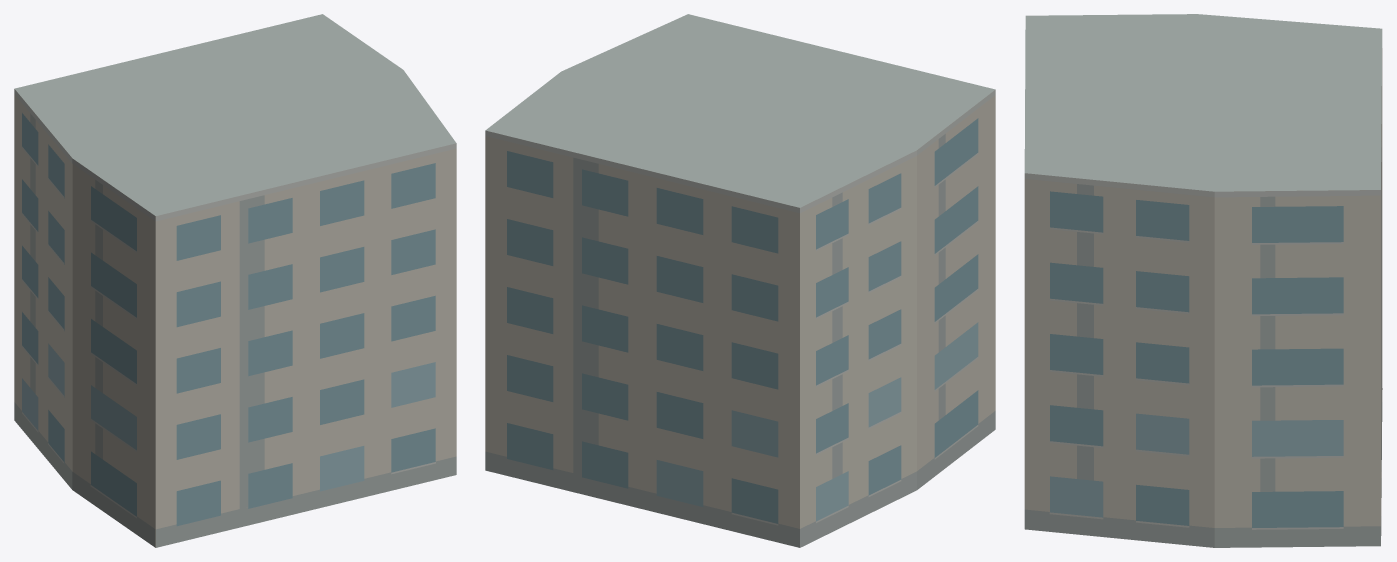
File: survey-upis-32778831.glb
3 renders of one model, left to right at view 1: azimuth 30°, elevation 25°; view 2: azimuth 150°, elevation 25°; view 3: azimuth 270°, elevation 25°, orthographic. The views are drawn at different scales.
Parts seen in each view (by area): view 1: survey-upis-32778831.tmp; view 2: survey-upis-32778831.tmp; view 3: survey-upis-32778831.tmp.
Part boxes in pixels (x1,y1,x2,y2): survey-upis-32778831.tmp: (14,14,456,547); survey-upis-32778831.tmp: (485,14,995,547); survey-upis-32778831.tmp: (1024,14,1382,547).
Size of the model in its own units: 16.27 by 15.2 by 13.85.
